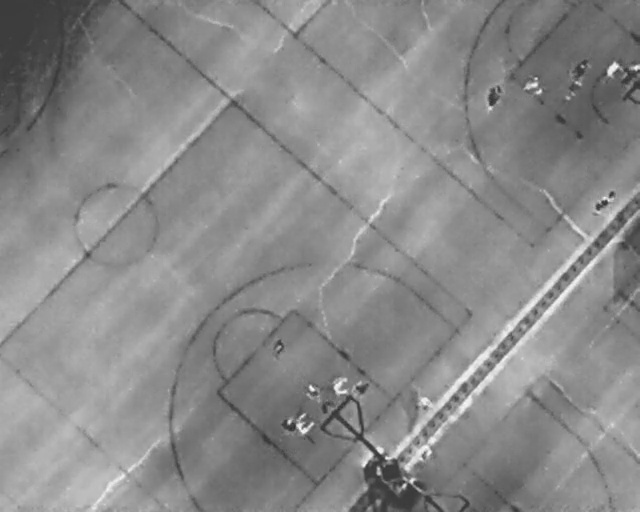Person: (588, 185, 619, 219), (483, 80, 505, 113), (601, 56, 624, 86), (563, 73, 583, 103), (571, 56, 590, 86), (296, 413, 315, 438), (525, 73, 543, 98), (353, 379, 370, 401), (271, 336, 285, 361), (333, 375, 348, 398), (282, 414, 295, 437), (305, 383, 319, 402)
